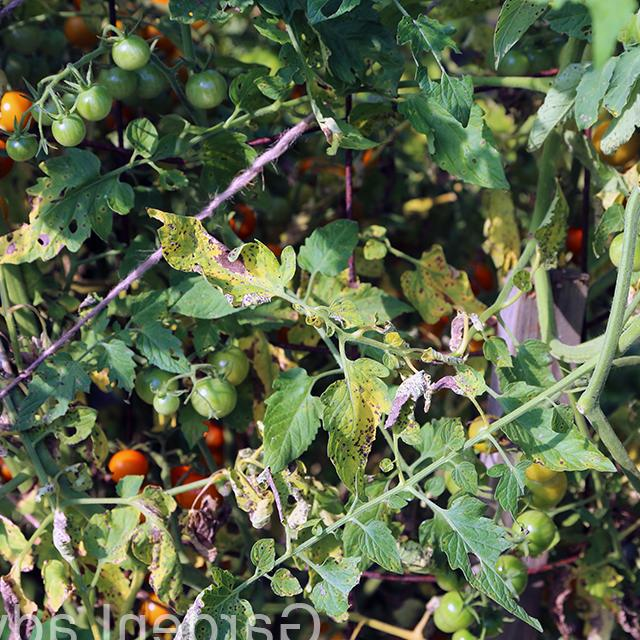Tomato leaf: (143, 207, 300, 311), (0, 153, 133, 264), (406, 92, 505, 191), (320, 359, 389, 489), (489, 415, 611, 474), (257, 370, 326, 474), (402, 251, 480, 320), (323, 283, 411, 326)
